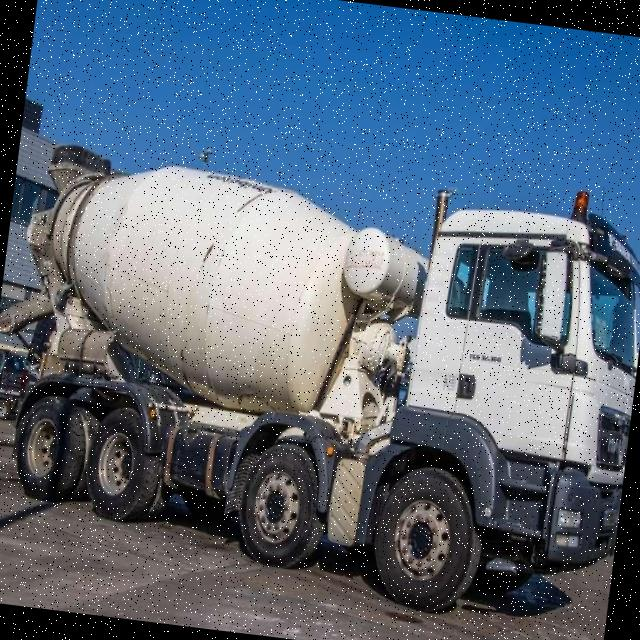Mixer Truck: (0, 138, 640, 632)
